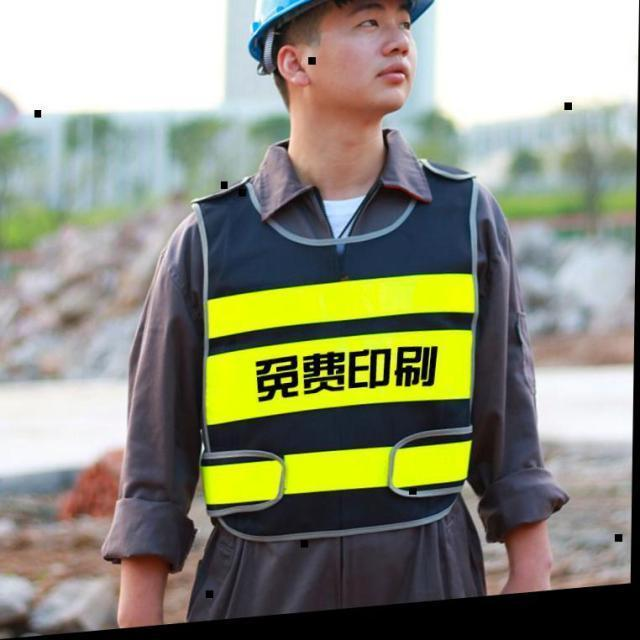safety_helmet: (123, 176, 528, 536)
